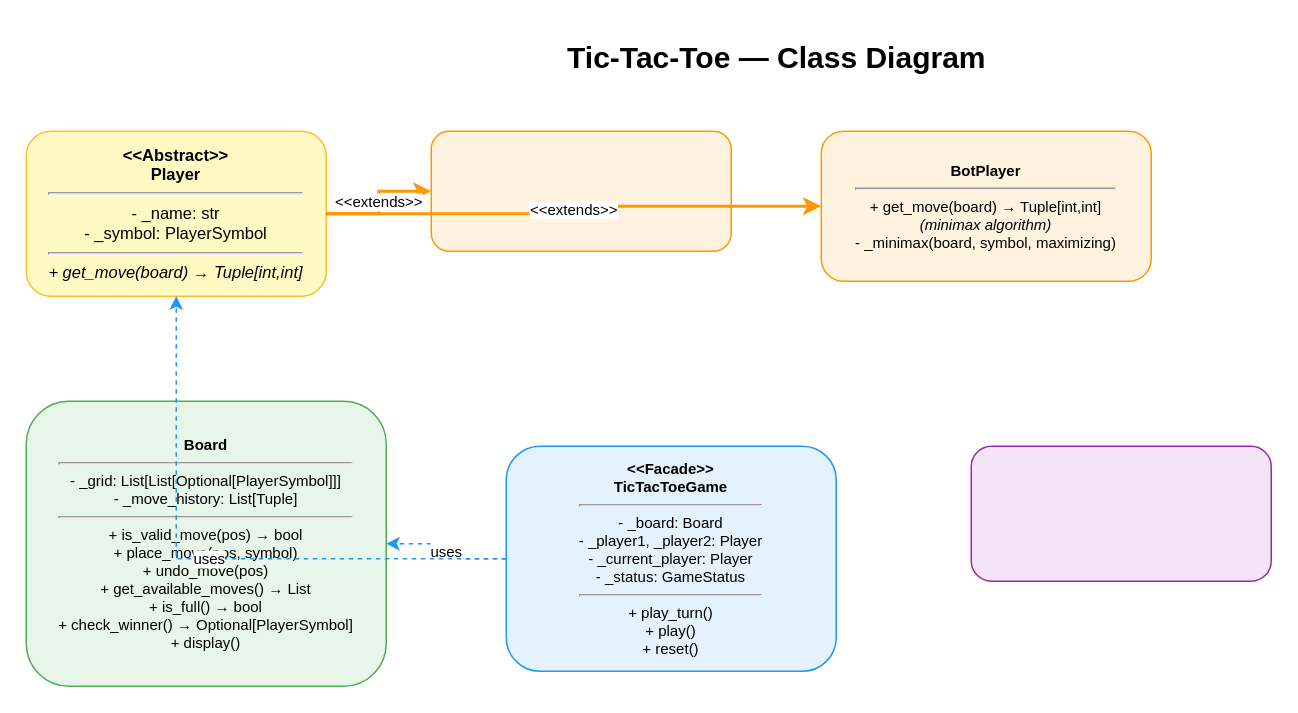
Some shapes in this 1298 by 713 pixel diagram are drawn without their labels. The centre of each missing label's shape, as x and y in pixels:
"Enums PlayerSymbol : X, O GameStatus : IN_PROGRESS, WIN, DRAW" goes at (1120,513).
"HumanPlayer + get_move(board) → Tuple[int,int] (reads from console)" goes at (580,190).
